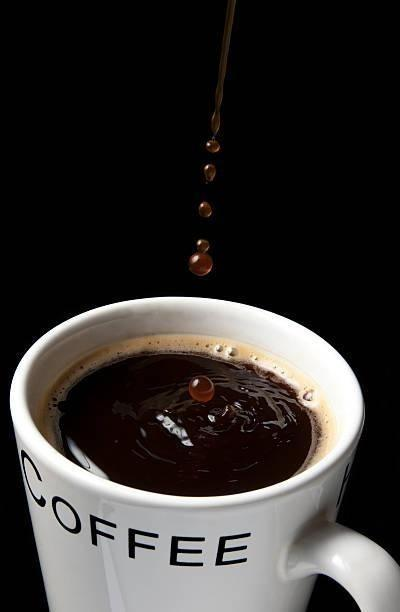cup-handle: (9, 296, 400, 612)
